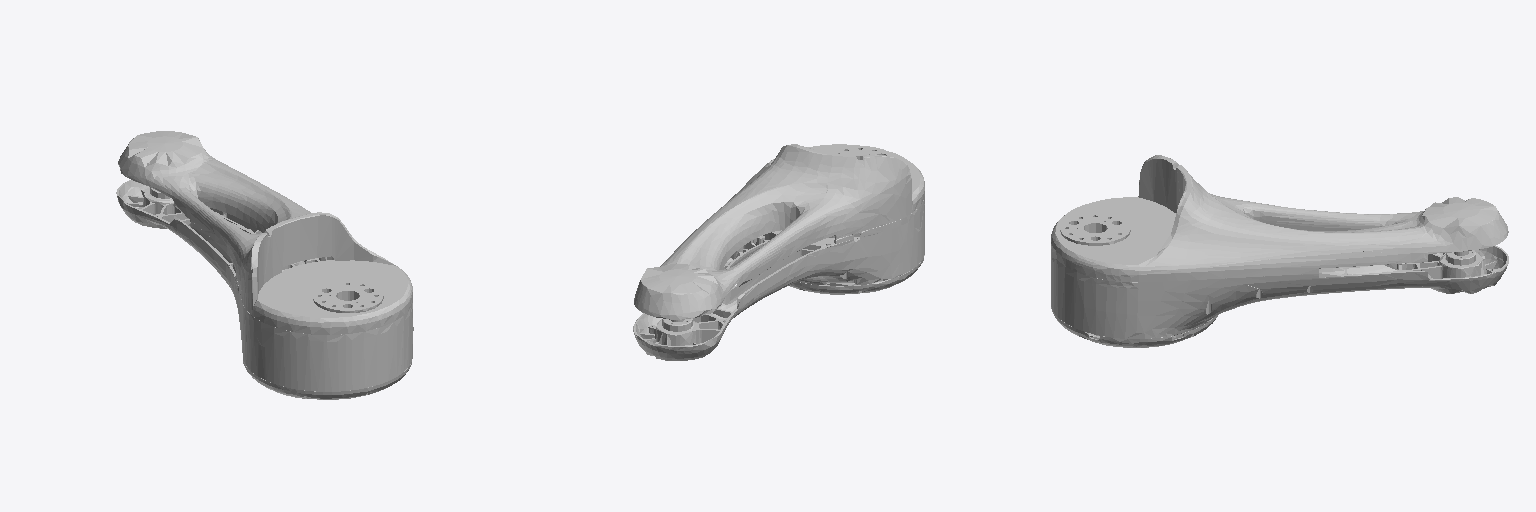
The model's file is left_thigh_pitch_link.obj.
3 renders of one model, left to right at view 1: azimuth 30°, elevation 25°; view 2: azimuth 150°, elevation 25°; view 3: azimuth 270°, elevation 25°, orthographic.
Visible parts, largest first — view 1: left_thigh_pitch_link; view 2: left_thigh_pitch_link; view 3: left_thigh_pitch_link.
Boxes of the visible parts, box(x1,y1,x2,y2) form: left_thigh_pitch_link: box(116, 131, 413, 399); left_thigh_pitch_link: box(633, 144, 924, 360); left_thigh_pitch_link: box(1051, 155, 1508, 347).
Bounding box in the file's own units: 0.1684 × 0.1567 × 0.451.